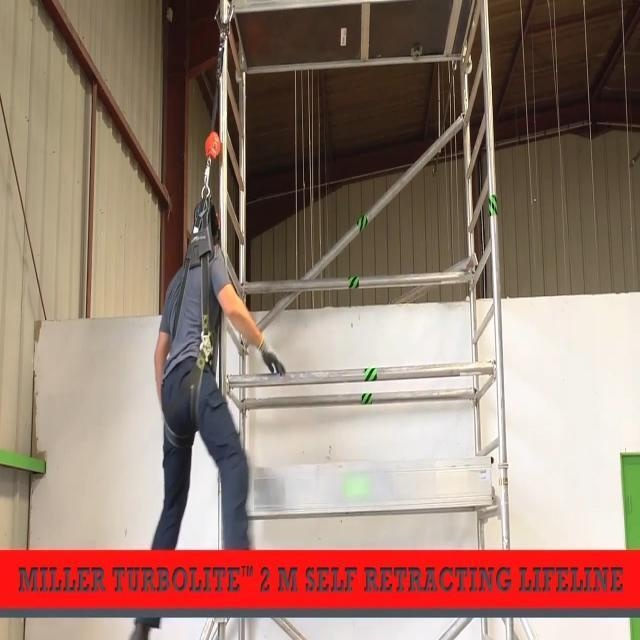Arnes_seguridad: (140, 121, 229, 449)
